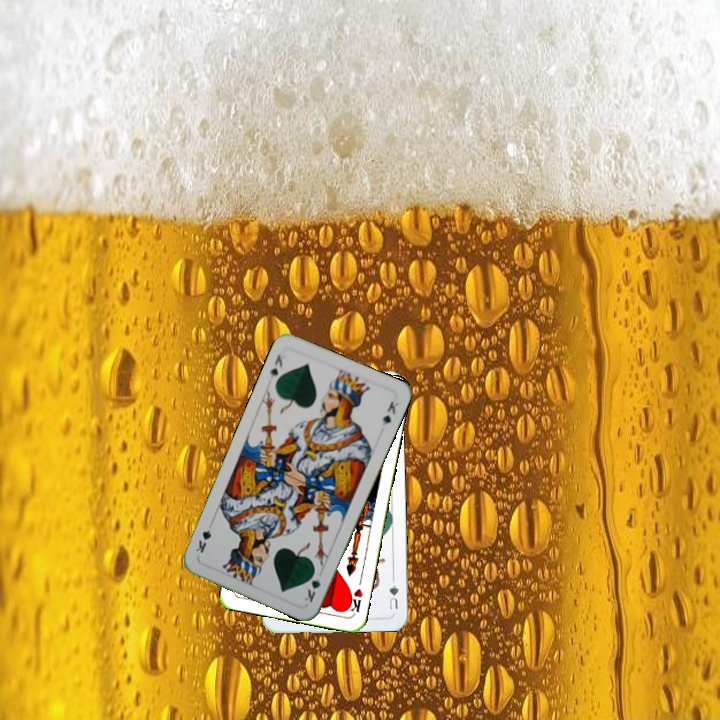GK: (300, 565, 323, 605), (266, 350, 286, 381)
GU: (385, 574, 401, 612)
HK: (343, 576, 365, 616)
